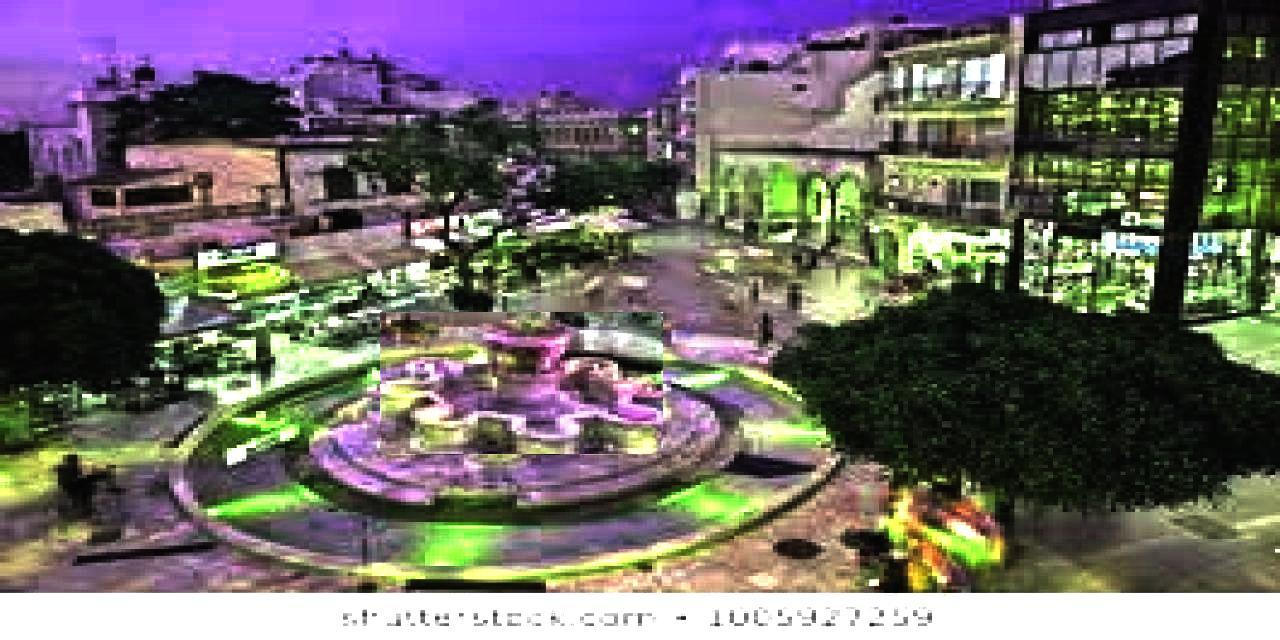Liontaria: (381, 313, 664, 455)
